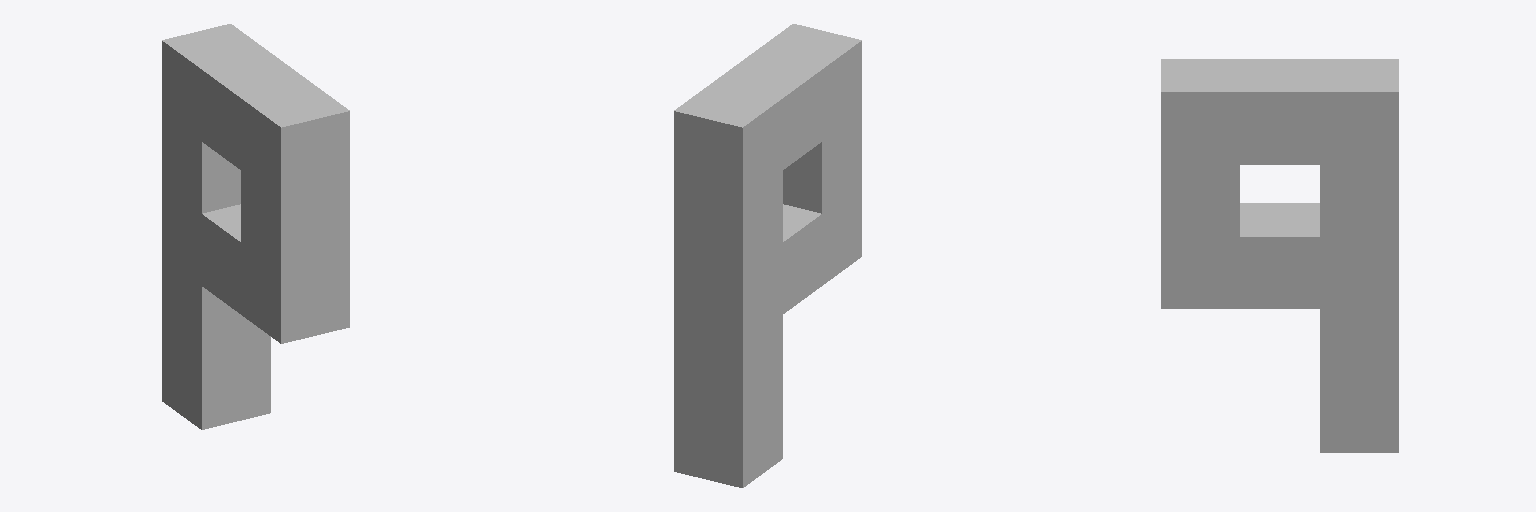
3 views of the same model, side by side, from view 1: azimuth 30°, elevation 25°; view 2: azimuth 150°, elevation 25°; view 3: azimuth 270°, elevation 25° (orthographic).
Visible parts, largest first — view 1: mesh[number redacted]; view 2: mesh[number redacted]; view 3: mesh[number redacted].
Boxes of the visible parts, <box> form: mesh[number redacted]: <box>162,24,349,429</box>; mesh[number redacted]: <box>674,24,861,487</box>; mesh[number redacted]: <box>1161,59,1398,452</box>.
Bounding box in the file's own units: 0.02 × 0.1 × 0.06.